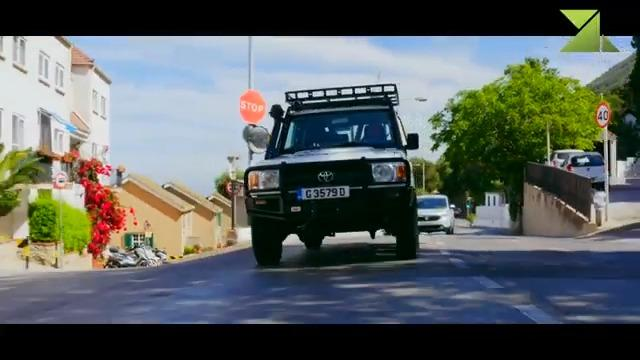MIL_HMMWV: (244, 82, 420, 266), (564, 150, 606, 191), (418, 194, 456, 236)
